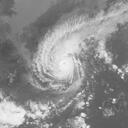cyclone: (33, 16, 81, 84)
